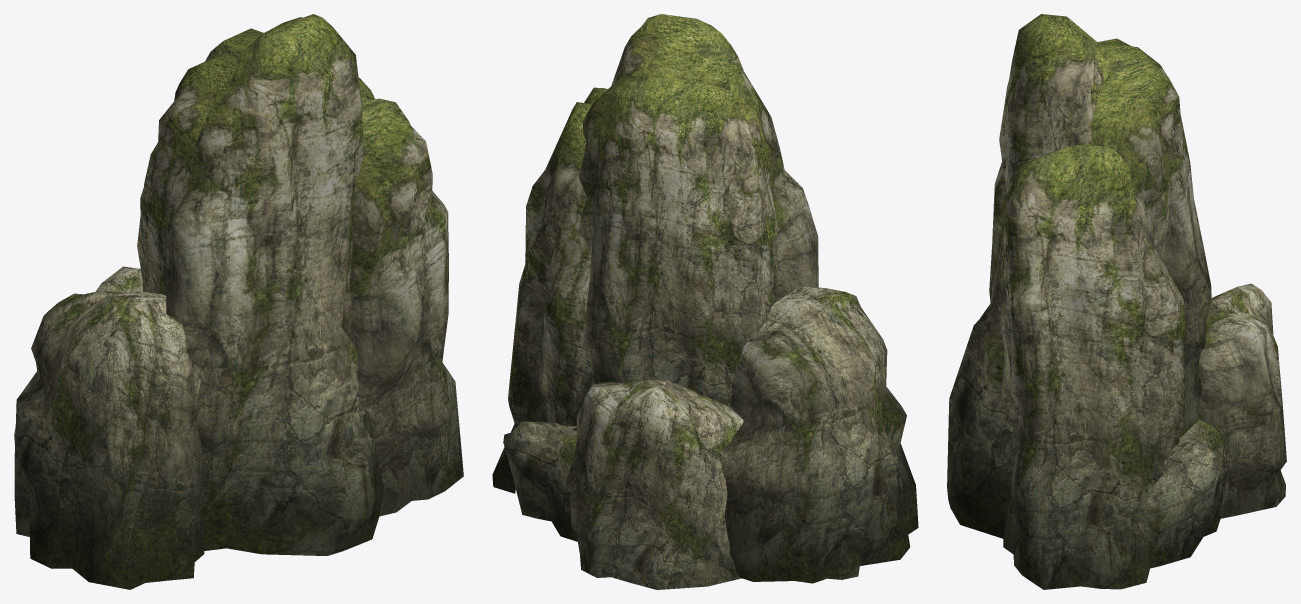
Rendered from hyc_xinshanshi01.FBX.
The picture shows the model from 3 angles, left to right: view 1: azimuth 30°, elevation 25°; view 2: azimuth 150°, elevation 25°; view 3: azimuth 270°, elevation 25°; orthographic projection. The views are drawn at different scales.
Parts seen in each view (by area): view 1: hyc_xinshanshi01; view 2: hyc_xinshanshi01; view 3: hyc_xinshanshi01.
Part boxes in pixels (x1,y1,x2,y2): hyc_xinshanshi01: (14, 14, 463, 589); hyc_xinshanshi01: (492, 14, 918, 589); hyc_xinshanshi01: (947, 14, 1286, 589).
Bounding box in the file's own units: 2282 × 2601 × 1637.
